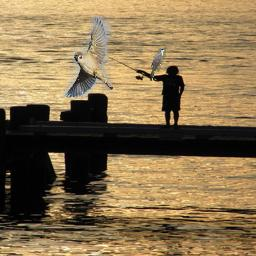Cuckoo: (150, 47, 167, 81)
Sparrow: (63, 17, 113, 97)
